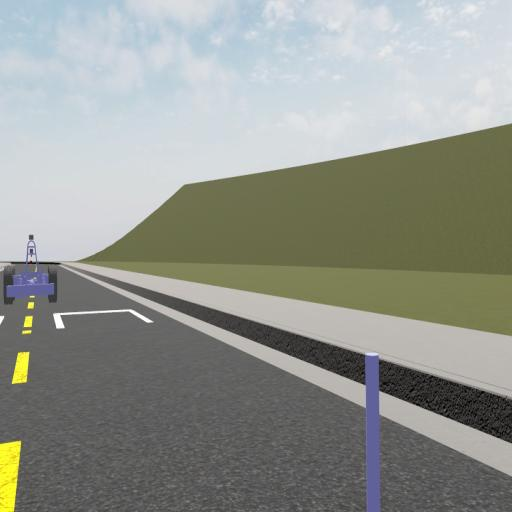ERP-42: (2, 238, 58, 303)
